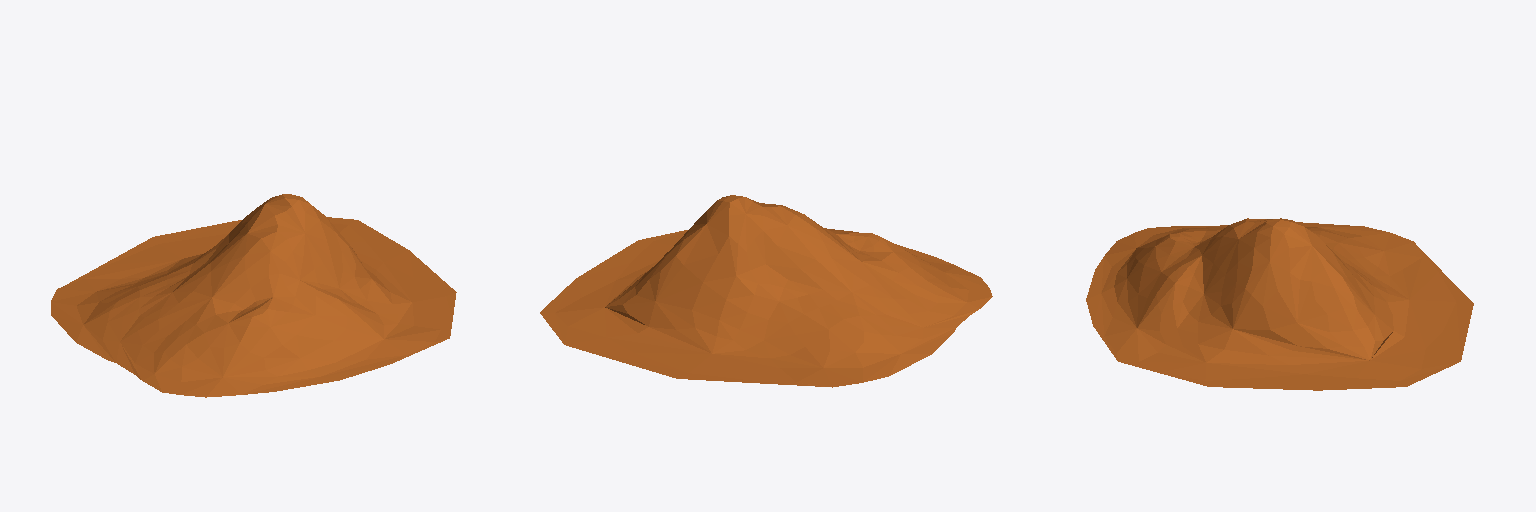
The model's file is Ground06.obj.
3 views of the same model, side by side, from view 1: azimuth 30°, elevation 25°; view 2: azimuth 150°, elevation 25°; view 3: azimuth 270°, elevation 25° (orthographic).
Visible parts, largest first — view 1: Plane_Plane.002; view 2: Plane_Plane.002; view 3: Plane_Plane.002.
Boxes of the visible parts, <box> form: Plane_Plane.002: <box>51,194,456,397</box>; Plane_Plane.002: <box>540,195,992,387</box>; Plane_Plane.002: <box>1086,218,1473,390</box>.
Bounding box in the file's own units: 48.37 × 13.52 × 47.09.